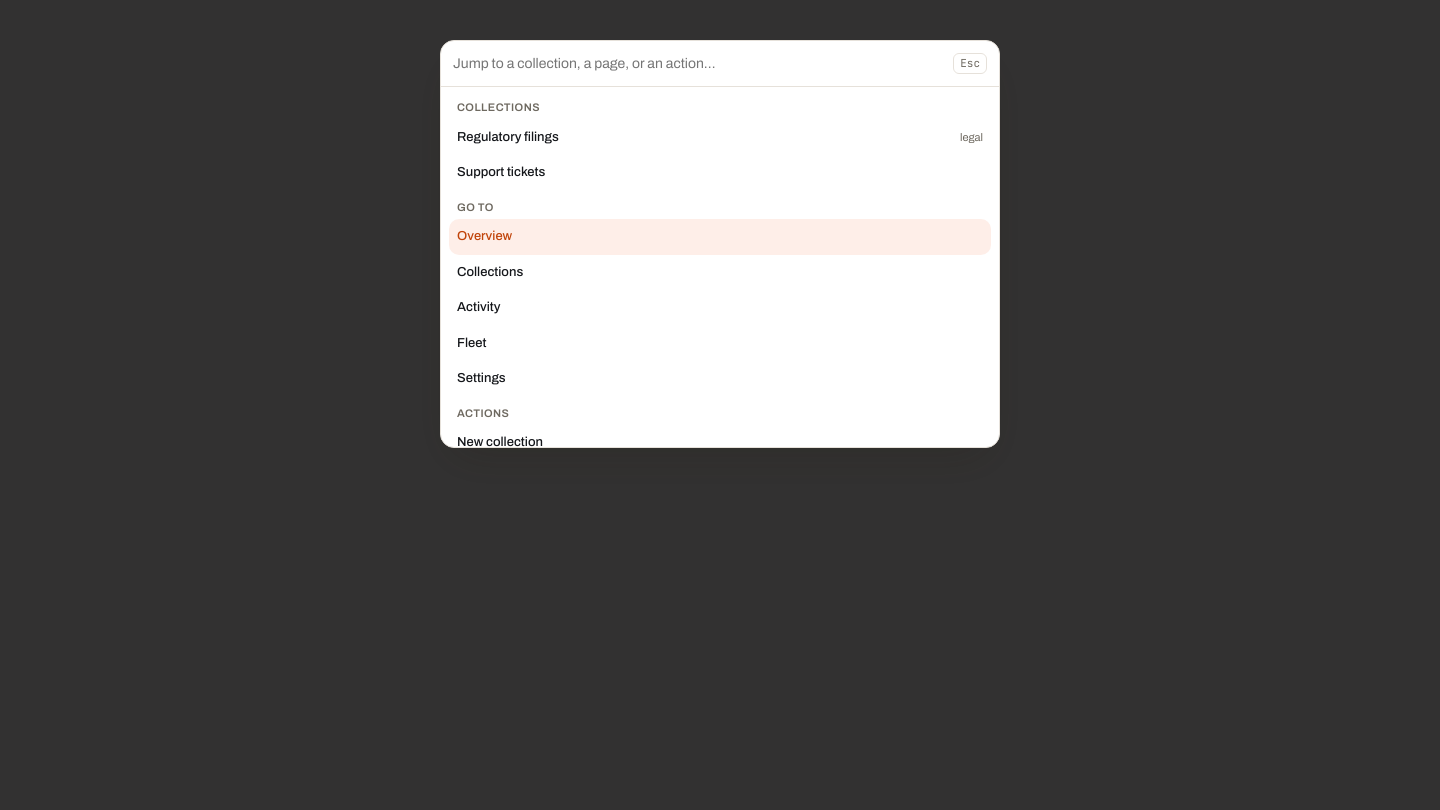
it: CommandPalette › filters results as the query changes, across collections and go-to destinations
expect the text "Regulatory filings" is shown: met, box [457,128,559,147]
Type "regu" into the dropdown named "Command palette search".
click(699, 64); type("regu")  # box [453,53,945,74]
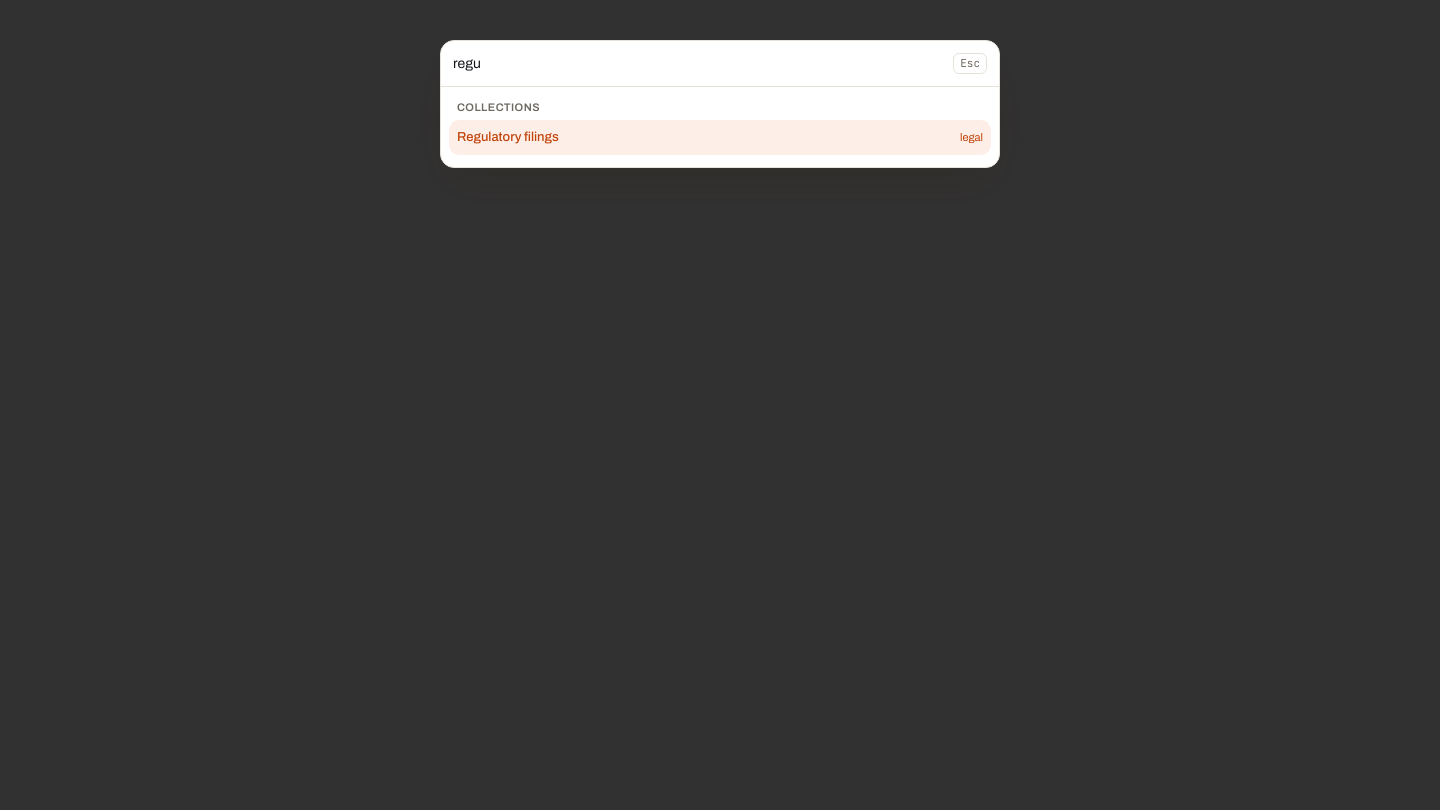
expect the text "Regulatory filings" is shown: met, box [457,128,559,147]
expect the option "Support tickets" is gone: met
expect the option "Overview" is gone: met
